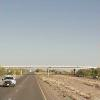Car: (3, 68, 22, 92)
